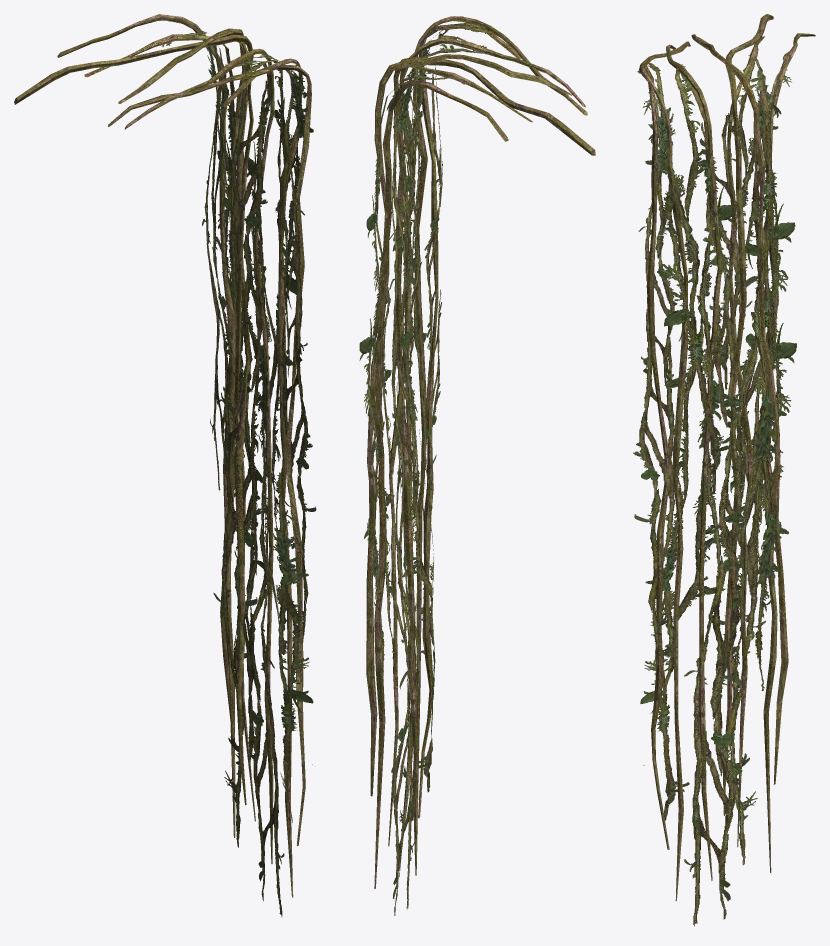
File: bg_anh_foliage_tr_v42_sm_old.FBX
3 renders of one model, left to right at view 1: azimuth 30°, elevation 25°; view 2: azimuth 150°, elevation 25°; view 3: azimuth 270°, elevation 25°, orthographic. The views are drawn at different scales.
Parts seen in each view (by area): view 1: bg_anh_foliage_tr_v42_sm_old; view 2: bg_anh_foliage_tr_v42_sm_old; view 3: bg_anh_foliage_tr_v42_sm_old.
Boxes of the visible parts, x1=… form: bg_anh_foliage_tr_v42_sm_old: x1=14, y1=14, x2=316, y2=917; bg_anh_foliage_tr_v42_sm_old: x1=359, y1=16, x2=595, y2=915; bg_anh_foliage_tr_v42_sm_old: x1=633, y1=14, x2=815, y2=926.
Bounding box in the file's own units: 656 × 2351 × 480.
